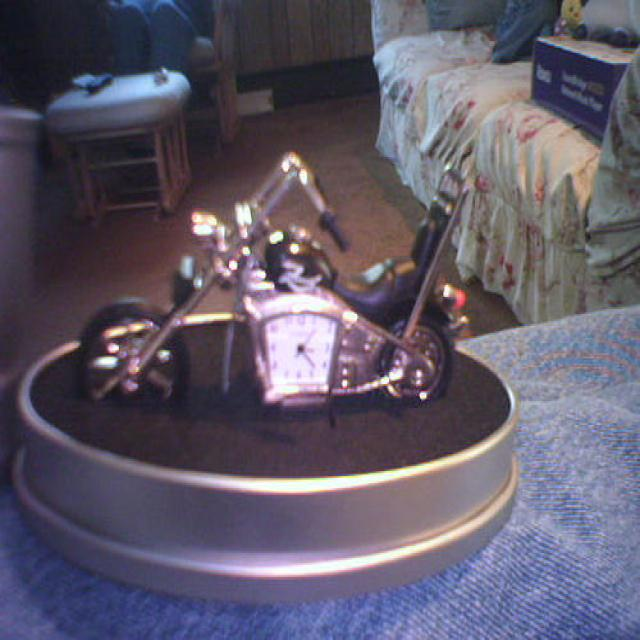motor: (76, 148, 467, 413)
